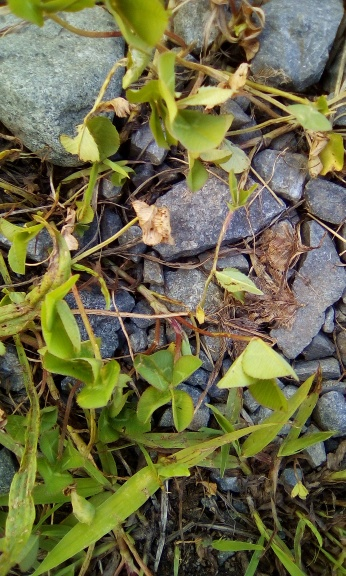4leaf: (132, 350, 203, 432)
